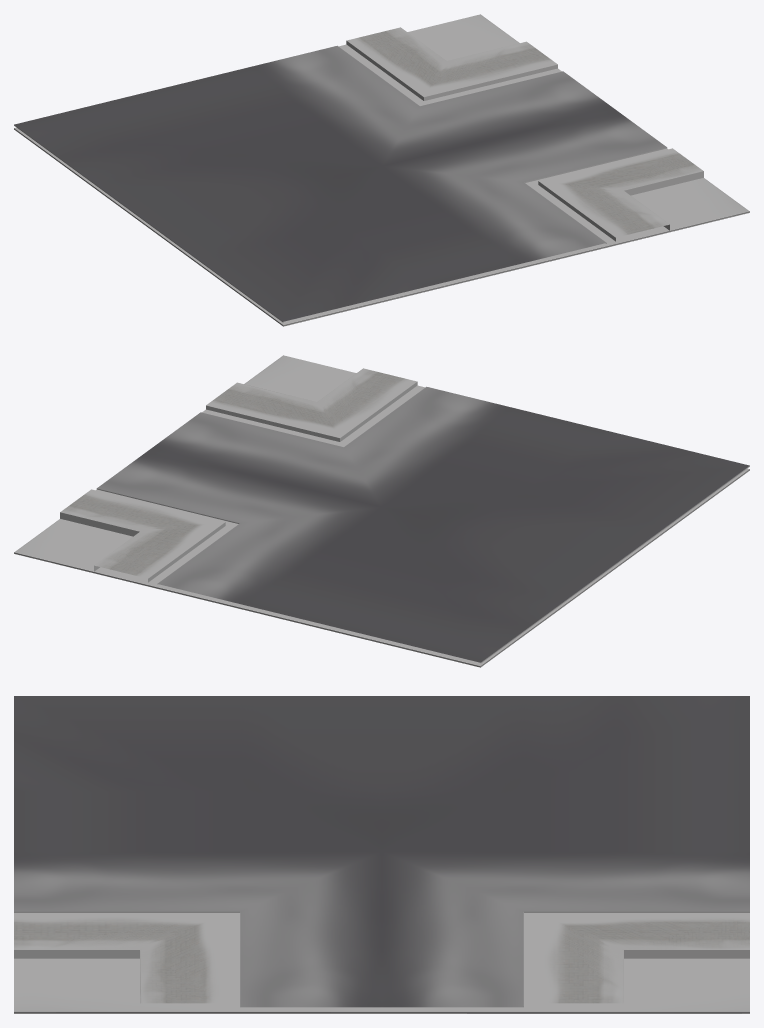
Rendered from Car_Park_Straight_Entry.fbx.
3 views of the same model, one above another, from view 1: azimuth 30°, elevation 25°; view 2: azimuth 150°, elevation 25°; view 3: azimuth 270°, elevation 25° (orthographic). The views are drawn at different scales.
Visible parts, largest first — view 1: Road_10X33, Road_10X25; view 2: Road_10X33, Road_10X25; view 3: Road_10X33, Road_10X25.
Part boxes in pixels (x1,y1,x2,y2): Road_10X33: (14, 27, 703, 322); Road_10X25: (14, 14, 749, 326); Road_10X33: (60, 368, 749, 663); Road_10X25: (14, 355, 749, 667); Road_10X33: (14, 696, 749, 1008); Road_10X25: (14, 958, 749, 1013).
Size of the model in its own units: 1000 by 15.95 by 1000.
